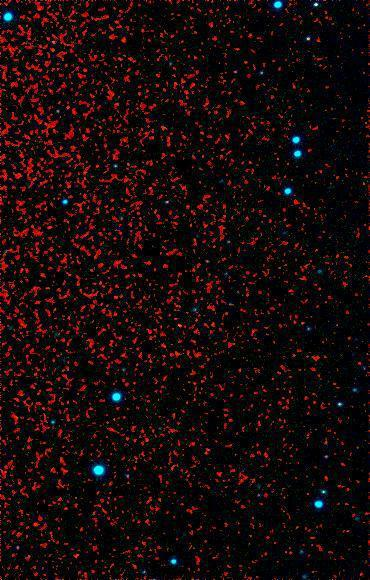star: (164, 309, 194, 339)
